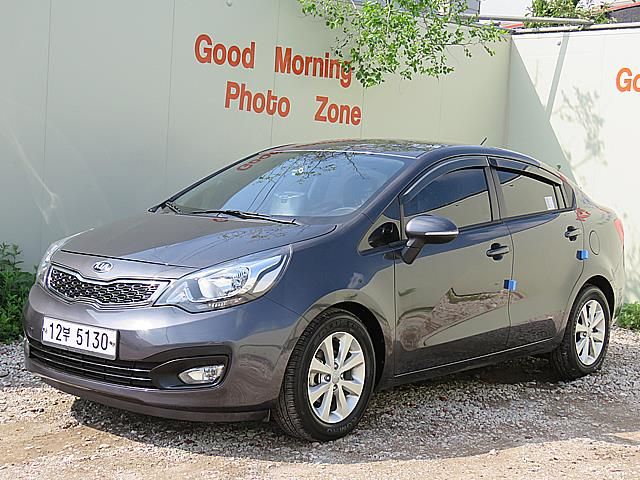plate: (42, 317, 116, 356)
